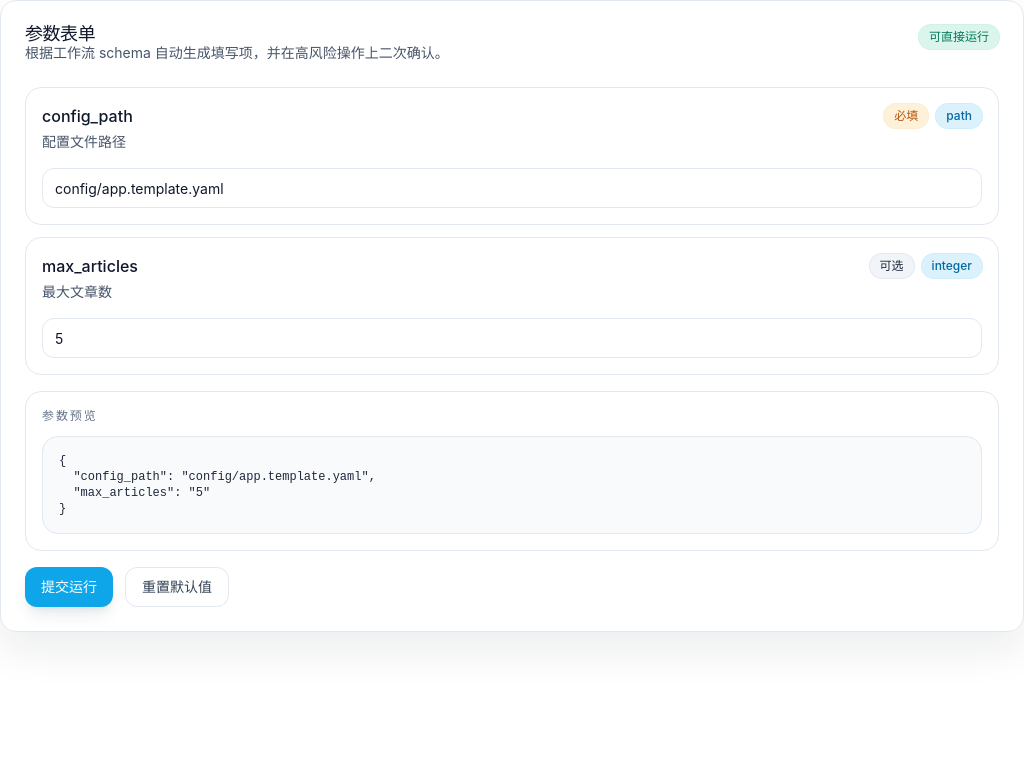
WorkflowParameterForm › shows required validation errors on the matching field before submitting
Clear the field showing "config/app.template.yaml" at (512, 188), box left=42, top=168, right=982, bottom=208
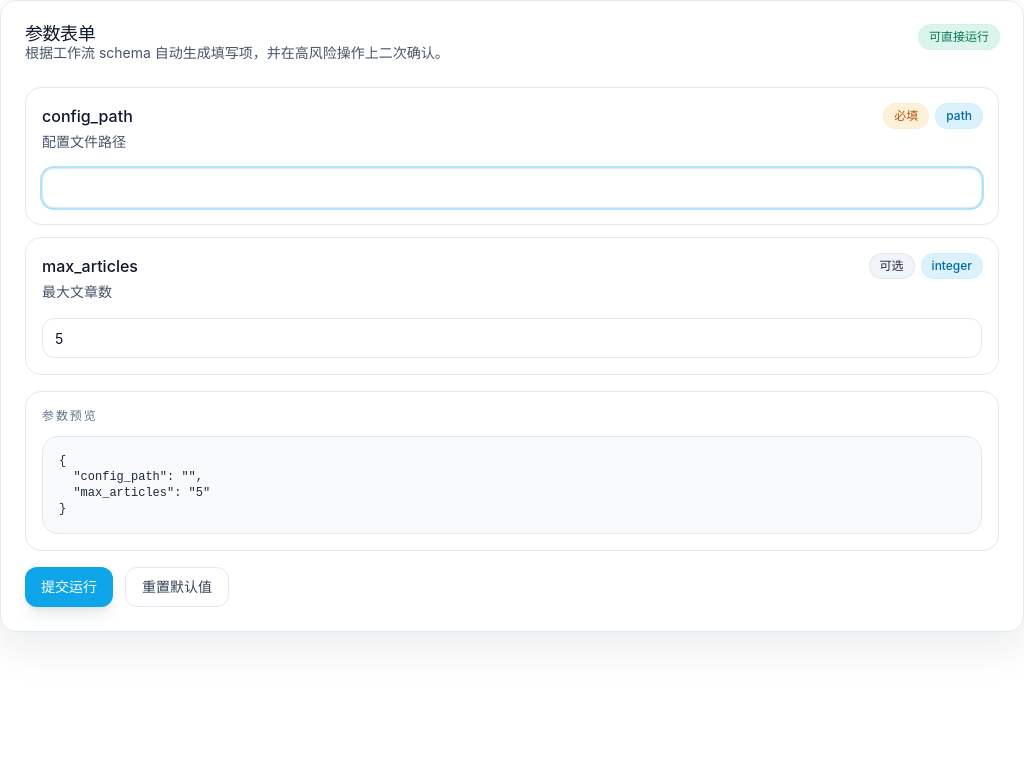
Click the button "提交运行".
click(69, 587)  # box left=25, top=567, right=113, bottom=607
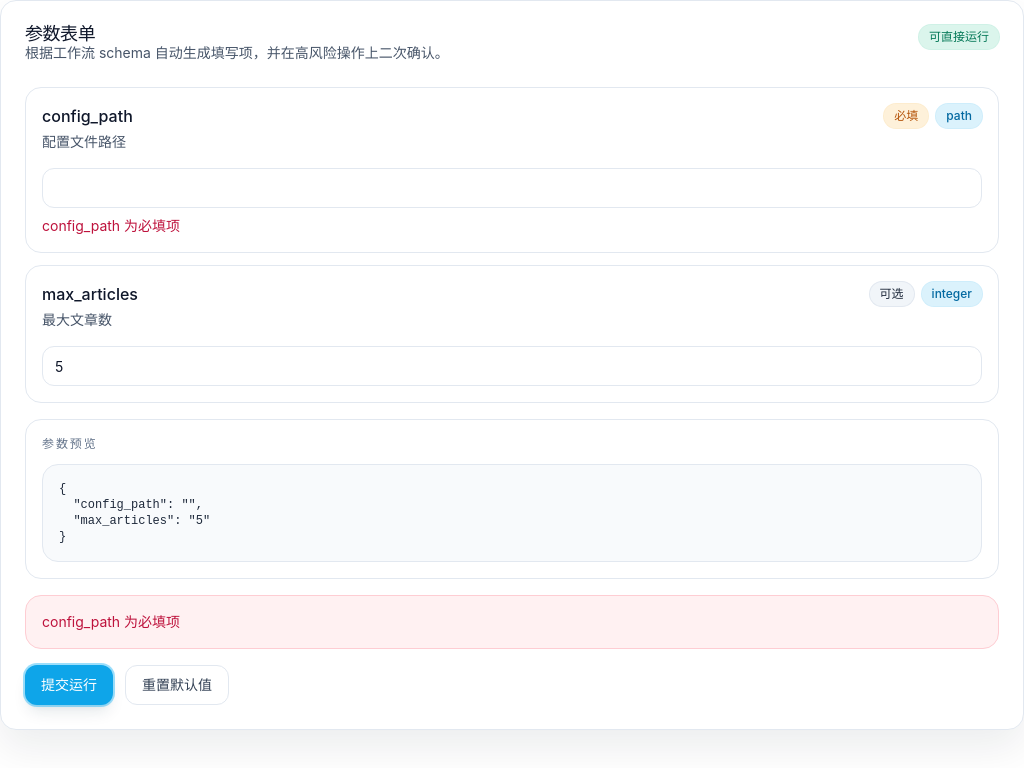
Now the text "config_path 为必填项" is shown 2 times, box left=42, top=217, right=180, bottom=234; left=25, top=595, right=999, bottom=649
